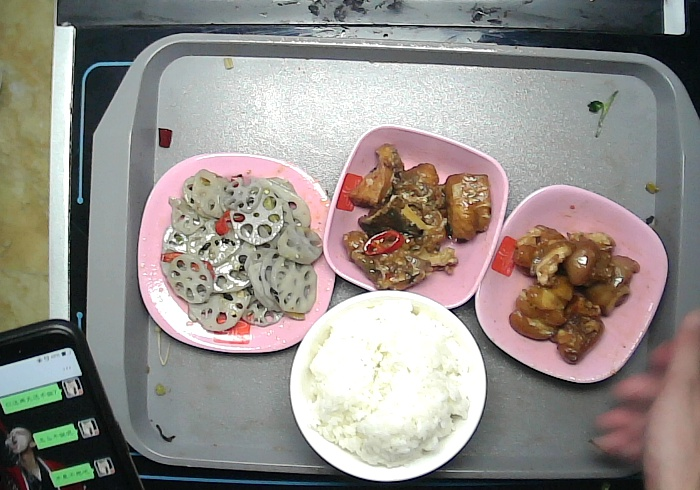SHKJ-Fan_Wan: (287, 288, 493, 490)
SHKJ-Fen_Se_Cai_Die: (471, 181, 671, 390)
SHKJ-Fen_Se_Si_Fang_Cai_Die: (132, 148, 337, 366)
SHKJ-Fen_Se_Xiao_Fang_Die: (319, 120, 512, 309)
